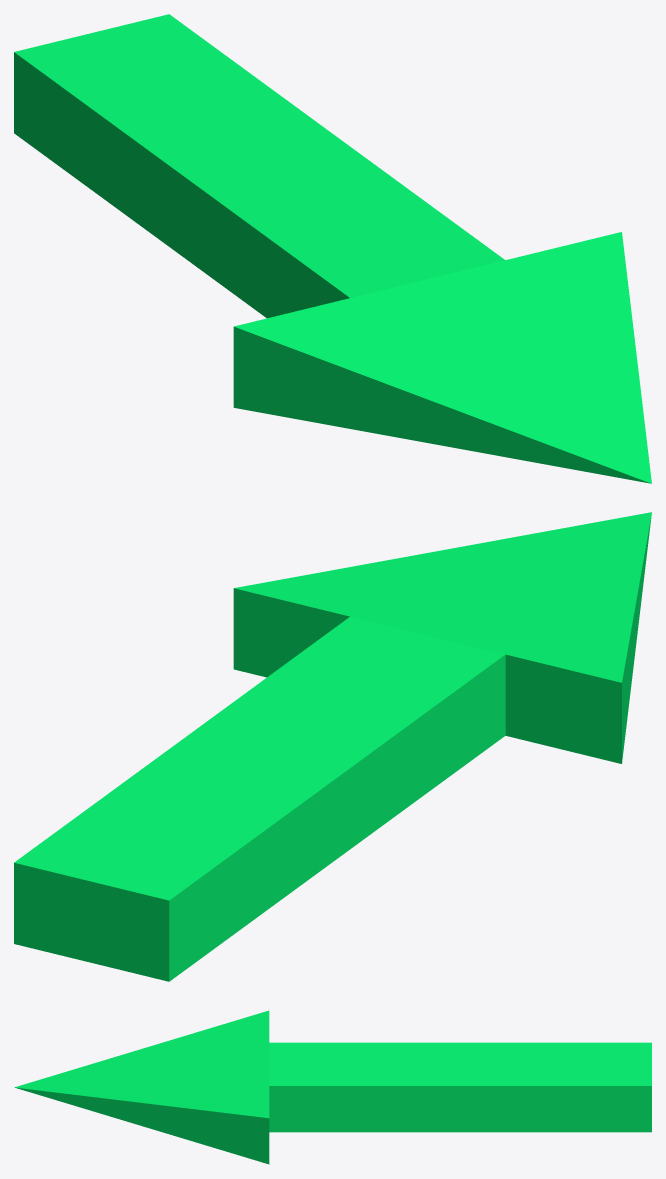
Rendered from Arrow.fbx.
3 views of the same model, one above another, from view 1: azimuth 30°, elevation 25°; view 2: azimuth 150°, elevation 25°; view 3: azimuth 270°, elevation 25° (orthographic). The views are drawn at different scales.
Visible parts, largest first — view 1: block_default_2, block_piramid_1; view 2: block_default_2, block_piramid_1; view 3: block_default_2, block_piramid_1.
Part boxes in pixels (<box>): block_default_2: <box>14,14,504,318</box>; block_piramid_1: <box>233,232,651,483</box>; block_default_2: <box>14,616,505,981</box>; block_piramid_1: <box>233,512,651,763</box>; block_default_2: <box>269,1042,651,1132</box>; block_piramid_1: <box>14,1010,269,1164</box>.
Bounding box in the file's own units: 10 × 2 × 25.
